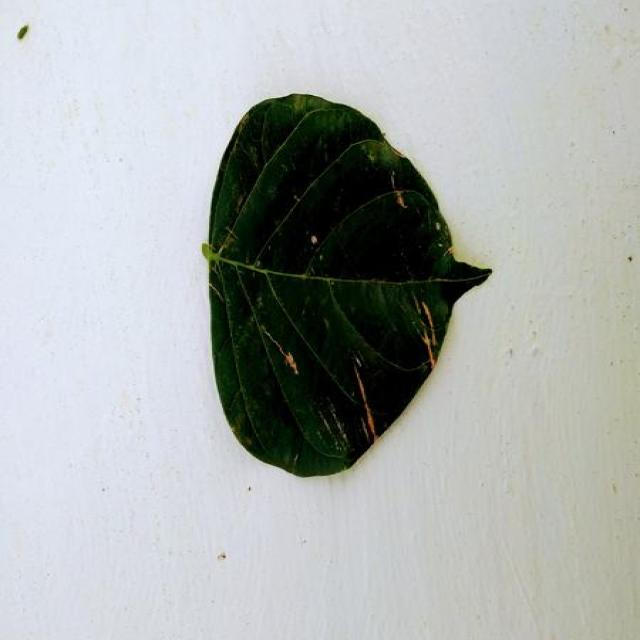honge: (203, 94, 490, 476)
wilt: (203, 95, 490, 476)
